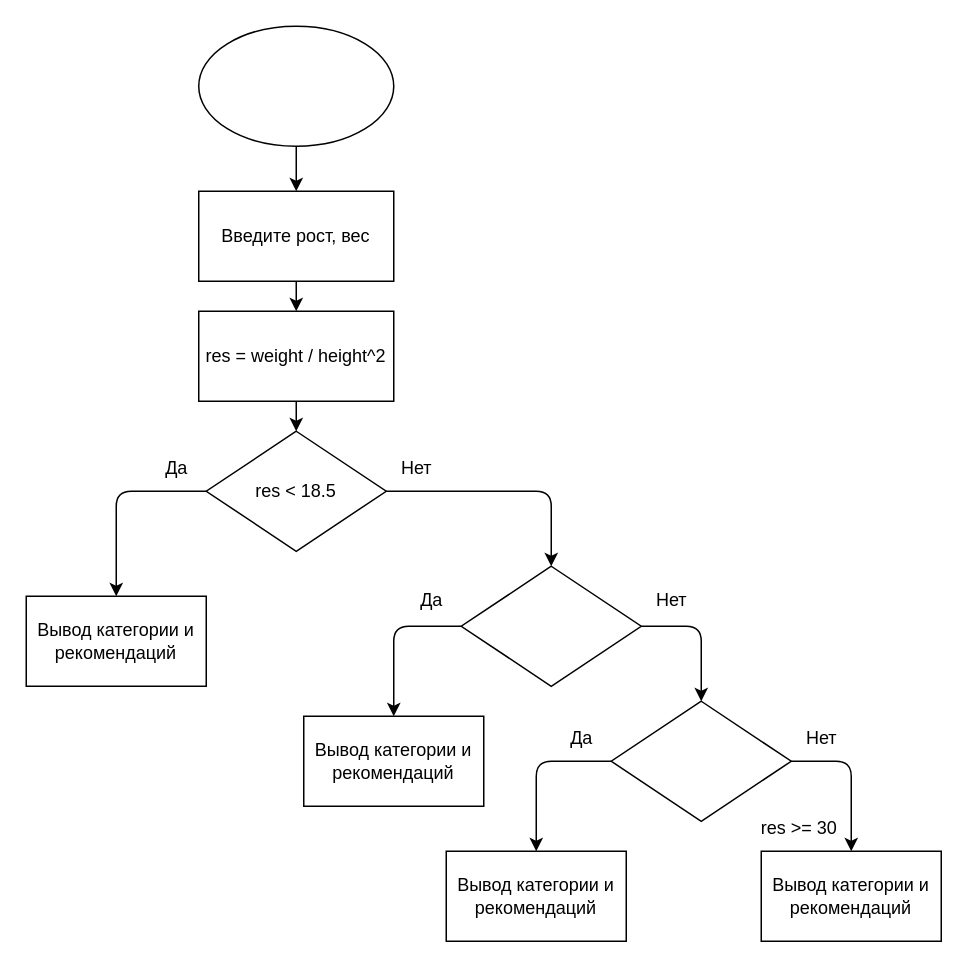
This 968x968 diagram has some shape labels left out. The shapes that lost their labels are listed below. From the top down, each one's centre as x and y in pixels, then its label:
point (295, 85): НАЧАЛО
point (550, 625): res >= 18.5 && res <= 24.9
point (700, 760): res >= 25 && res <= 29.9
